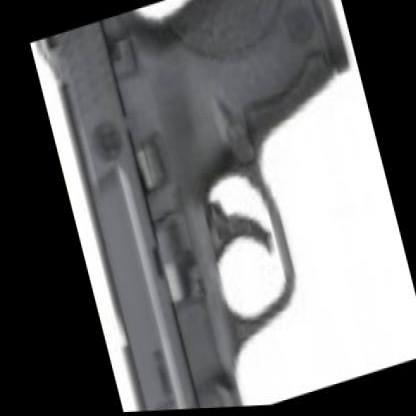pistol: (25, 0, 412, 413)
